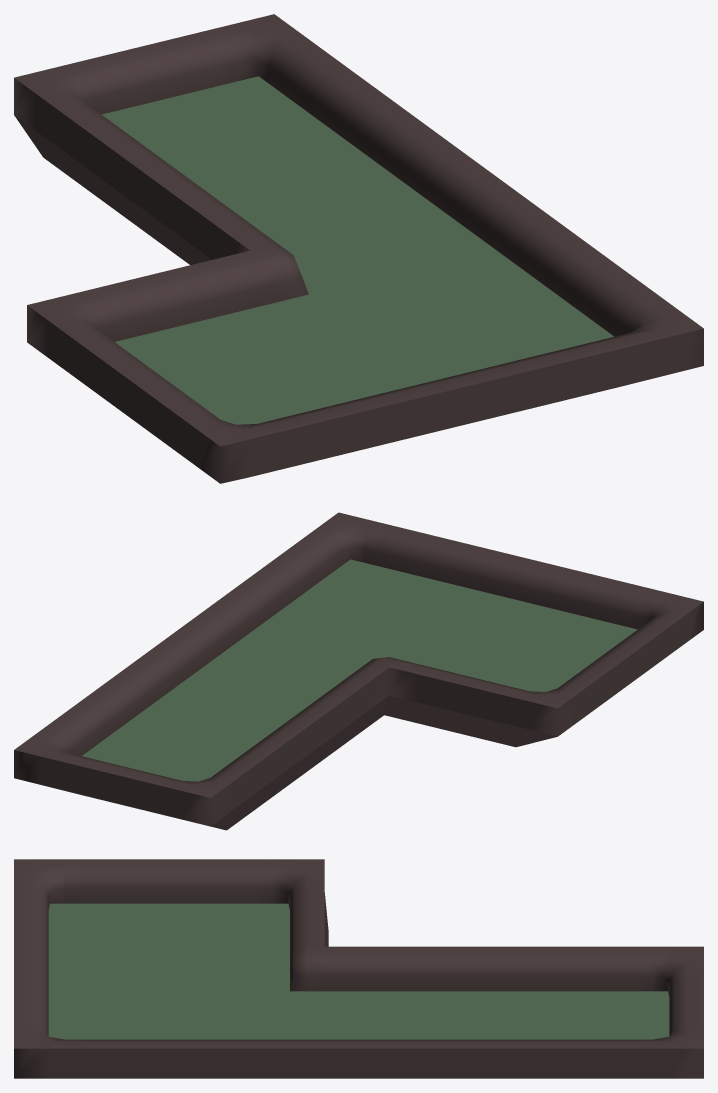
The model's file is table_1.fbx.
3 views of the same model, one above another, from view 1: azimuth 30°, elevation 25°; view 2: azimuth 150°, elevation 25°; view 3: azimuth 270°, elevation 25° (orthographic). The views are drawn at different scales.
Parts seen in each view (by area): view 1: pPlane4; view 2: pPlane4; view 3: pPlane4.
Part boxes in pixels (bbox=[...]): pPlane4: bbox=[14, 14, 703, 483]; pPlane4: bbox=[14, 512, 703, 830]; pPlane4: bbox=[14, 859, 703, 1078].
Size of the model in its own units: 1.3 by 0.1605 by 2.
